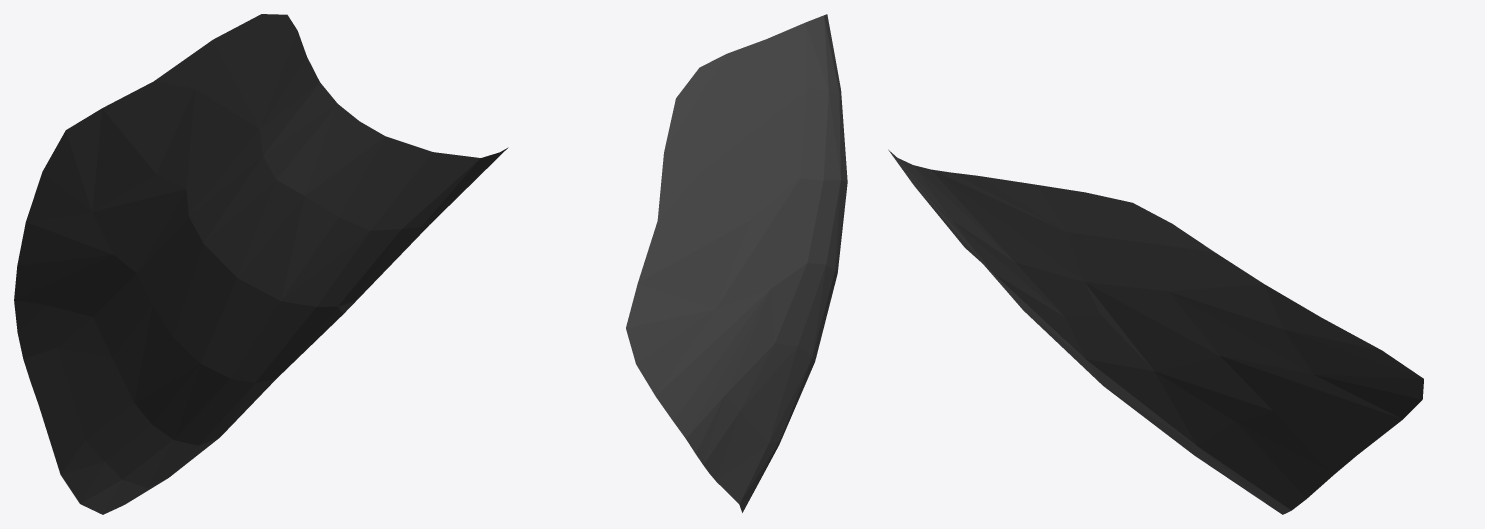
File: Scapula_cranial_angle.glb
3 views of the same model, side by side, from view 1: azimuth 30°, elevation 25°; view 2: azimuth 150°, elevation 25°; view 3: azimuth 270°, elevation 25° (orthographic). The views are drawn at different scales.
Parts seen in each view (by area): view 1: Scapula_cranial_angle; view 2: Scapula_cranial_angle; view 3: Scapula_cranial_angle.
Part boxes in pixels (left/top/right/bottom): Scapula_cranial_angle: left=14, top=14, right=508, bottom=514; Scapula_cranial_angle: left=626, top=14, right=847, bottom=512; Scapula_cranial_angle: left=888, top=149, right=1423, bottom=514.
Bounding box in the file's own units: 0.1326 × 0.1862 × 0.1917.
Materials: 1 (1 with a texture image).
